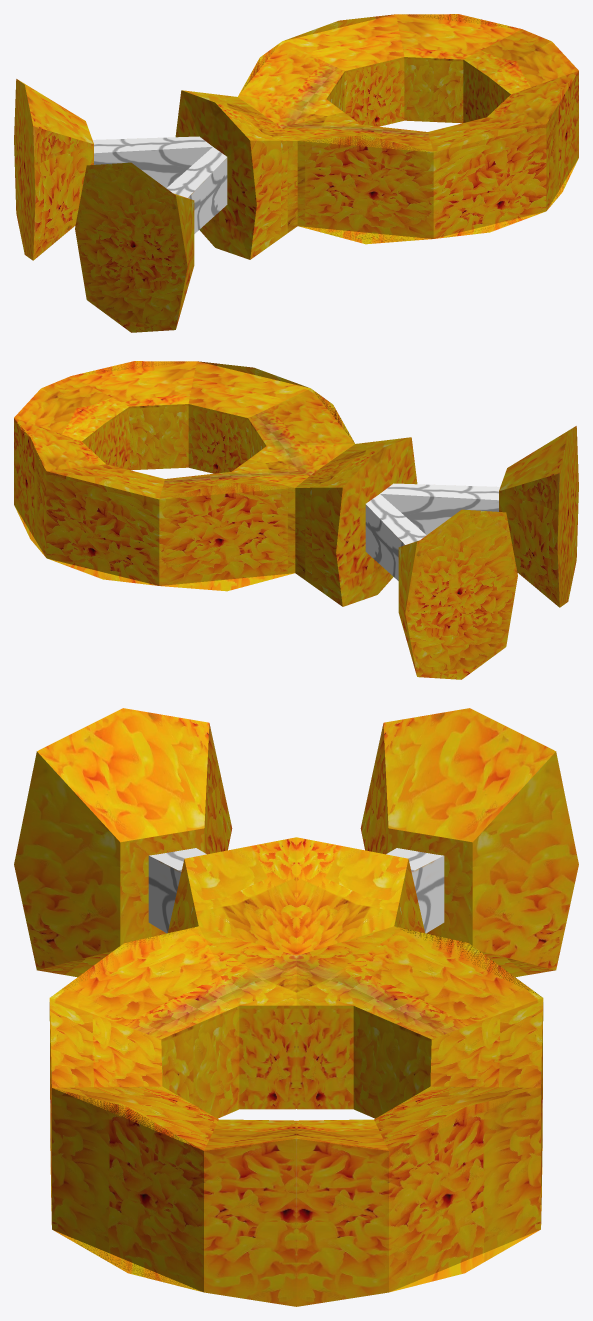
Rendered from flower.fbx.
3 renders of one model, top to bottom at view 1: azimuth 30°, elevation 25°; view 2: azimuth 150°, elevation 25°; view 3: azimuth 270°, elevation 25°, orthographic. The views are drawn at different scales.
Parts seen in each view (by area): view 1: Circle; view 2: Circle; view 3: Circle.
Part boxes in pixels (x1,y1,x2,y2): Circle: [14, 14, 578, 332]; Circle: [14, 361, 578, 679]; Circle: [14, 708, 578, 1306].
Size of the model in its own units: 16.76 by 5.49 by 10.15.
1 material, 1 textured.
